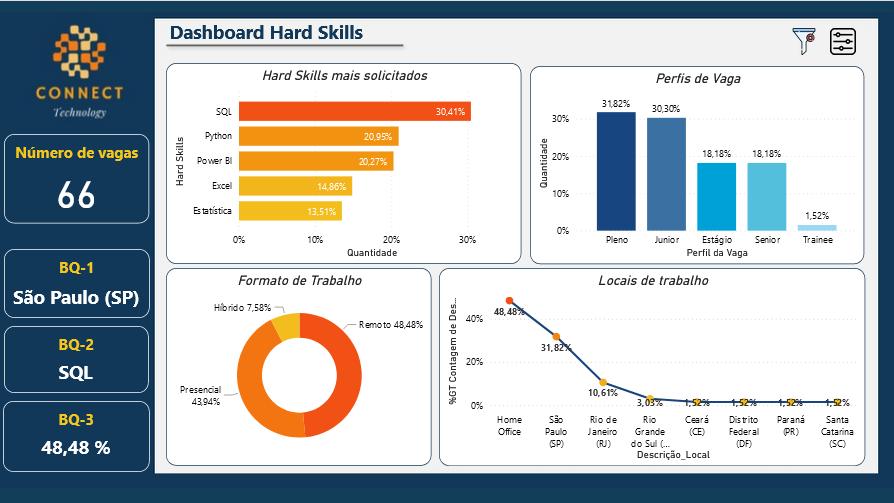

What the dashboard file says about the page in this screenshot:
{"tool":"powerbi","page":{"name":"Hard Skills","canvas":[1280,720],"ordinal":0},"visuals":[{"type":"image","box":[1125.9,36.1,48.6,47.3],"z":0},{"type":"textbox","box":[5.6,191.4,208,128],"z":1000},{"type":"card","fields":{"Values":["CountNonNull(Tab_Empresa.Descrição_Vaga)"]},"box":[53.6,239.4,112,64],"z":2000},{"type":"textbox","box":[237.7,20.8,366.9,47.3],"z":3000},{"type":"donutChart","title":"Formato de Trabalho","fields":{"Category":["Tab_FormatoTrab.Descrição_Formato"],"Y":["CountNonNull(Tab_Empresa.Descrição_Formato)"]},"box":[236.9,383.1,380,283.1],"z":4000},{"type":"lineChart","title":"Locais de trabalho","fields":{"Category":["Tab_Local.Descrição_Local"],"Y":["CountNonNull(Tab_Empresa.Descrição_Local)"]},"box":[628.3,383.6,610.2,283.6],"z":5000},{"type":"clusteredColumnChart","title":"Perfis de Vaga","fields":{"Y":["CountNonNull(Tab_Empresa.Perfil_Vaga)"],"Category":["Tab_Perfil.Perfil_Vaga"]},"box":[758.8,94,478.5,283.7],"z":6000},{"type":"shape","box":[229.3,36.1,357.2,58.4],"z":7000},{"type":"barChart","title":"Hard Skills mais solicitados","fields":{"Category":["Tab_HSkills.Descrição_HS"],"Y":["CountNonNull(Tab_BD.Id_HS)"]},"box":[237.7,90.3,508.7,287.7],"z":8000},{"type":"textbox","box":[5.6,356.6,208.5,98.7],"z":9000},{"type":"textbox","box":[5.6,466.4,207.1,95.9],"z":10000},{"type":"textbox","box":[3.9,574.1,209.9,101.5],"z":11000},{"type":"image","box":[1174.5,36.1,63.9,47.3],"z":12000},{"type":"textbox","box":[33.1,615.8,151.5,52.8],"z":13000},{"type":"textbox","box":[5.6,401.1,207.1,52.8],"z":14000},{"type":"textbox","box":[61.2,508.1,93.1,52.8],"z":16000}]}

Visuals, with their boxes in screenshot pixels (x1, y1, x2, y2), scaled from the page's 1280x720 canvas onto the 894x503 screenshot:
image: pyautogui.locateOnScreen(786, 25, 820, 58)
textbox: pyautogui.locateOnScreen(4, 134, 149, 223)
card - CountNonNull(Tab_Empresa.Descrição_Vaga): pyautogui.locateOnScreen(37, 167, 116, 212)
textbox: pyautogui.locateOnScreen(166, 15, 422, 48)
"Formato de Trabalho" donutChart: pyautogui.locateOnScreen(165, 268, 431, 465)
"Locais de trabalho" lineChart: pyautogui.locateOnScreen(439, 268, 865, 466)
"Perfis de Vaga" clusteredColumnChart: pyautogui.locateOnScreen(530, 66, 864, 264)
shape: pyautogui.locateOnScreen(160, 25, 410, 66)
"Hard Skills mais solicitados" barChart: pyautogui.locateOnScreen(166, 63, 521, 264)
textbox: pyautogui.locateOnScreen(4, 249, 150, 318)
textbox: pyautogui.locateOnScreen(4, 326, 149, 393)
textbox: pyautogui.locateOnScreen(3, 401, 149, 472)
image: pyautogui.locateOnScreen(820, 25, 865, 58)
textbox: pyautogui.locateOnScreen(23, 430, 129, 467)
textbox: pyautogui.locateOnScreen(4, 280, 149, 317)
textbox: pyautogui.locateOnScreen(43, 355, 108, 392)
